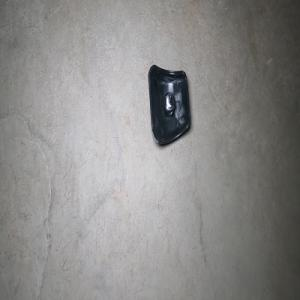LuggagePart: (147, 63, 191, 147)
